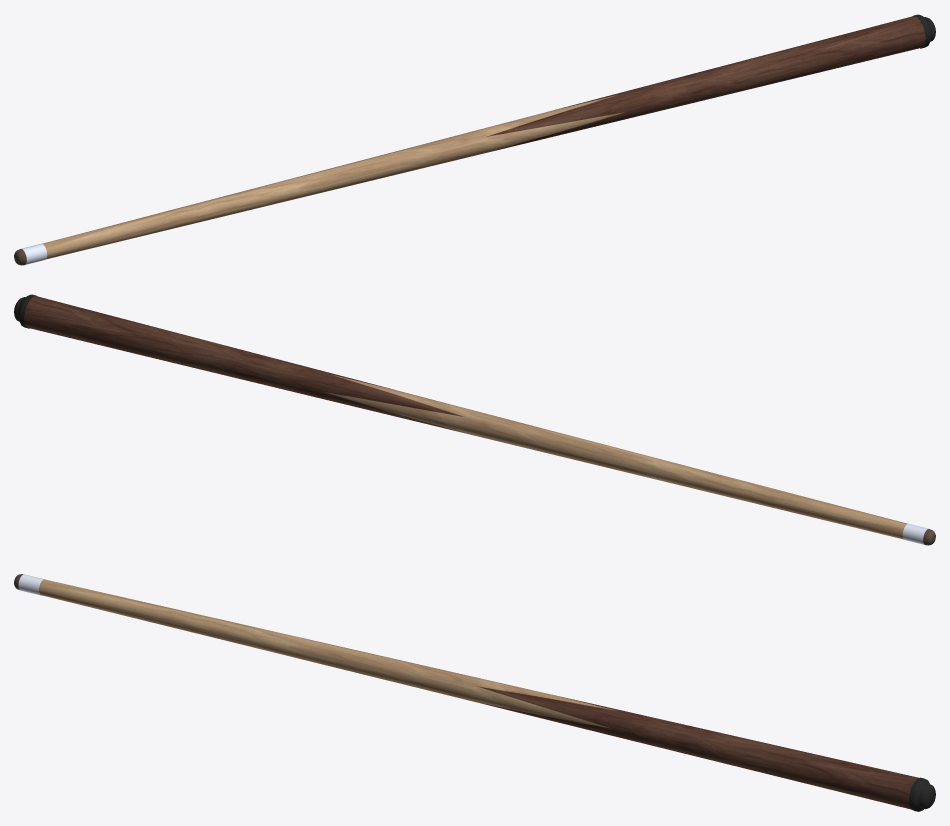
File: cue.glb
3 renders of one model, top to bottom at view 1: azimuth 30°, elevation 25°; view 2: azimuth 150°, elevation 25°; view 3: azimuth 330°, elevation 25°, orthographic.
Parts seen in each view (by area): view 1: Pool_Cue; view 2: Pool_Cue; view 3: Pool_Cue.
Part boxes in pixels (x1,y1,x2,y2): Pool_Cue: (14,14,935,265); Pool_Cue: (14,294,935,545); Pool_Cue: (14,574,935,811).
Bounding box in the file's own units: 5.55 × 0.1788 × 0.1787.
1 material, 1 textured.
